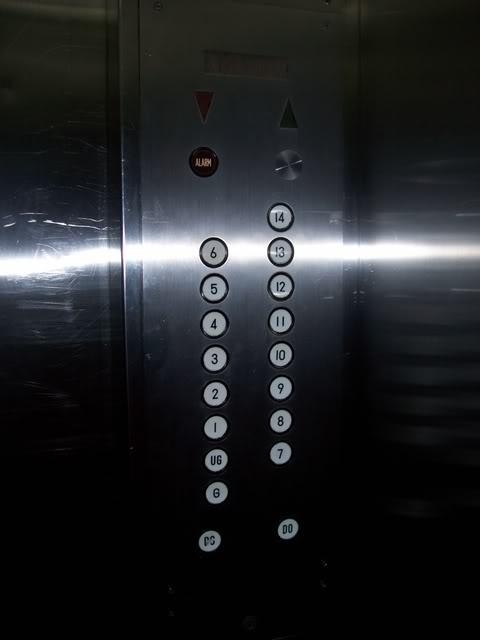1: (200, 411, 231, 442)
10: (265, 337, 296, 370)
11: (265, 304, 296, 337)
12: (265, 269, 296, 302)
13: (264, 234, 297, 268)
14: (264, 199, 297, 233)
2: (199, 377, 231, 409)
3: (198, 342, 230, 374)
4: (198, 306, 231, 340)
5: (197, 270, 230, 304)
6: (197, 235, 230, 269)
7: (267, 438, 294, 466)
8: (265, 403, 296, 436)
9: (265, 371, 296, 404)
DO: (274, 515, 300, 543)
G: (202, 477, 231, 507)
UG: (201, 444, 230, 474)
blur: (197, 526, 223, 554)
empty: (272, 147, 305, 181)
text_alarm: (187, 144, 220, 178)
